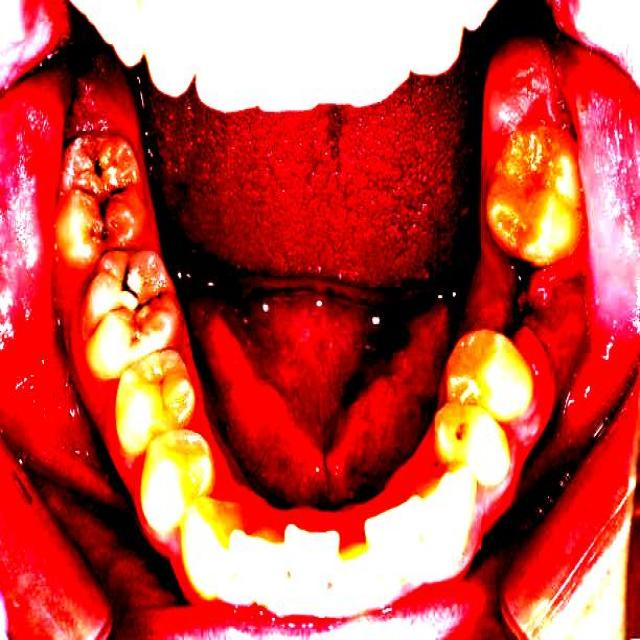caries: (86, 179, 130, 243), (110, 256, 140, 308), (86, 142, 116, 181), (143, 287, 165, 323)
